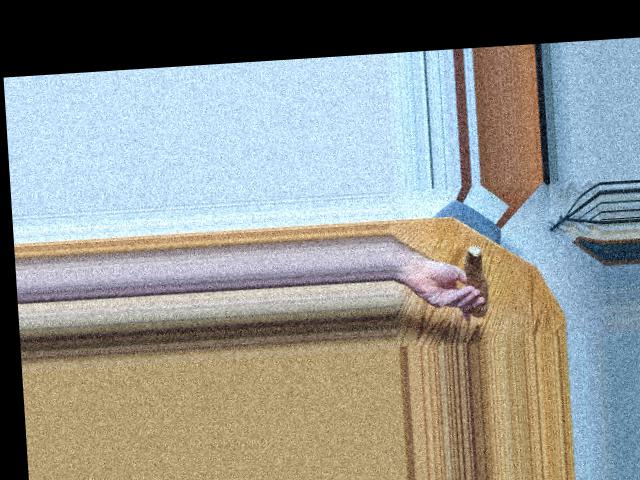sweet_potato: (465, 252, 496, 312)
